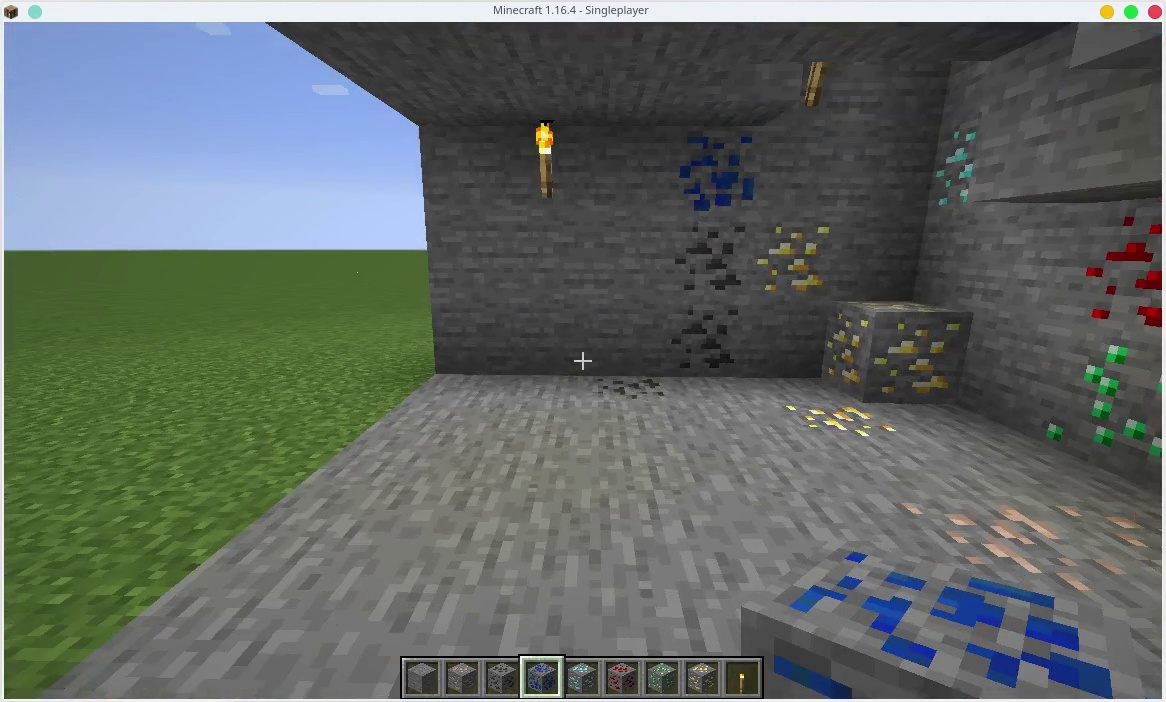gold: (815, 298, 968, 395), (752, 218, 832, 295), (788, 389, 895, 445)
